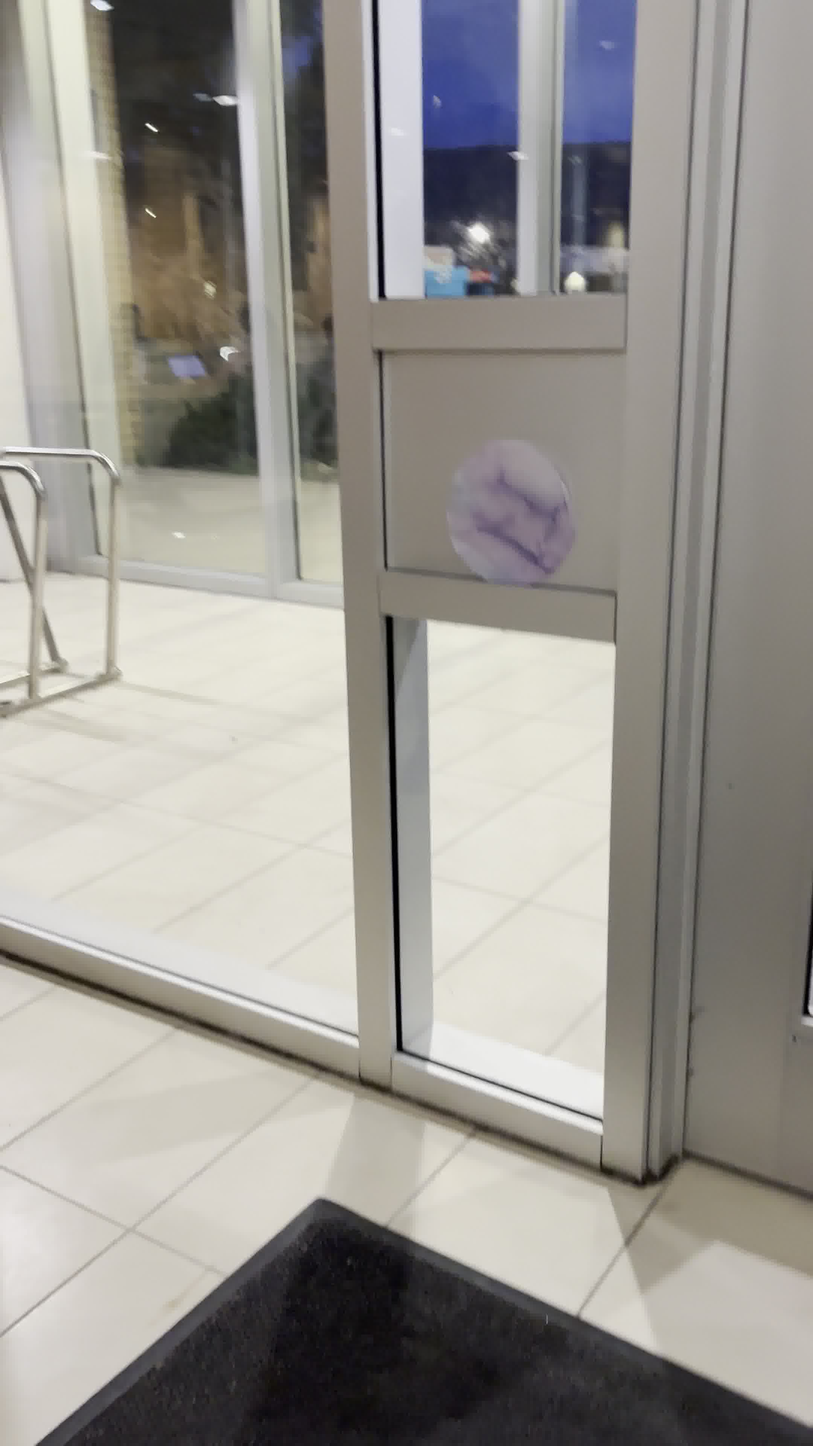Target: (444, 435, 580, 592)
